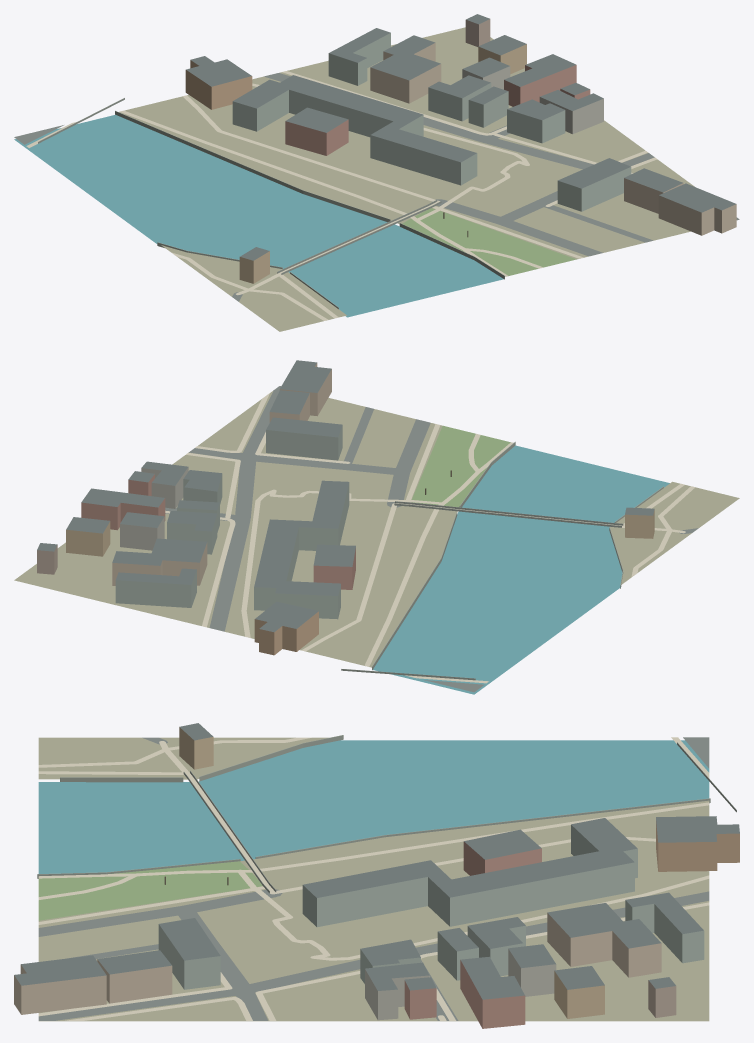
Rendered from sector--3_-5.glb.
3 views of the same model, one above another, from view 1: azimuth 30°, elevation 25°; view 2: azimuth 150°, elevation 25°; view 3: azimuth 270°, elevation 25° (orthographic). The views are drawn at different scales.
Visible parts, largest first — view 1: -3:-5-water, -3:-5-ground, -3:-5-facade, -3:-5-roof, -3:-5-paving, -3:-5-road, -3:-5-park, -3:-5-bank; view 2: -3:-5-ground, -3:-5-water, -3:-5-facade, -3:-5-roof, -3:-5-paving, -3:-5-road, -3:-5-park, -3:-5-bank; view 3: -3:-5-water, -3:-5-ground, -3:-5-facade, -3:-5-roof, -3:-5-paving, -3:-5-road, -3:-5-park, -3:-5-bank.
Boxes of the visible parts, x1,y1,x2,y2 form: -3:-5-water: (14, 115, 503, 317); -3:-5-ground: (119, 27, 694, 331); -3:-5-facade: (185, 19, 736, 283); -3:-5-roof: (186, 14, 735, 260); -3:-5-paving: (26, 71, 657, 320); -3:-5-road: (14, 73, 739, 301); -3:-5-park: (402, 208, 576, 275); -3:-5-bank: (38, 98, 504, 309); -3:-5-ground: (14, 391, 739, 667); -3:-5-water: (373, 445, 669, 694); -3:-5-facade: (37, 363, 654, 655); -3:-5-roof: (37, 360, 654, 632); -3:-5-paving: (165, 393, 695, 683); -3:-5-road: (165, 386, 698, 692); -3:-5-park: (411, 425, 510, 507); -3:-5-bank: (341, 441, 663, 680); -3:-5-water: (38, 740, 709, 873); -3:-5-ground: (38, 737, 709, 1021); -3:-5-facade: (14, 727, 739, 1028); -3:-5-roof: (14, 723, 739, 999); -3:-5-paving: (38, 737, 709, 1020); -3:-5-road: (38, 737, 709, 1020); -3:-5-park: (38, 861, 262, 920); -3:-5-bank: (37, 735, 736, 893).
Size of the model in its own units: 206 by 10.45 by 216.
